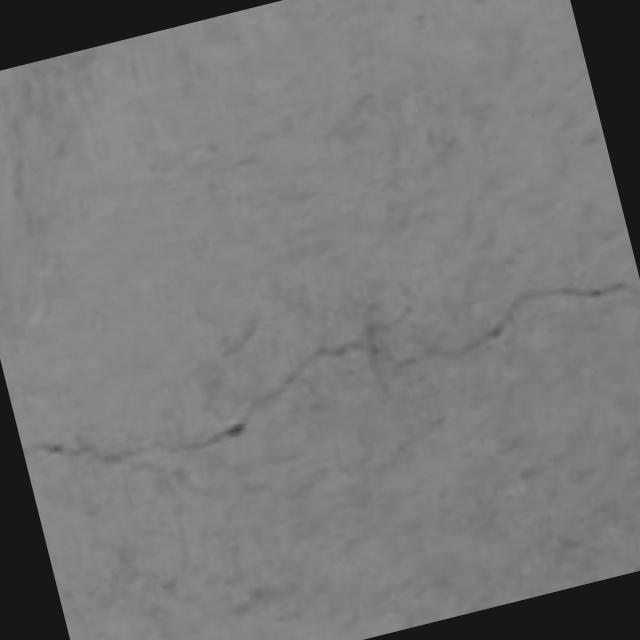crack: (23, 281, 639, 465), (396, 281, 639, 367)
